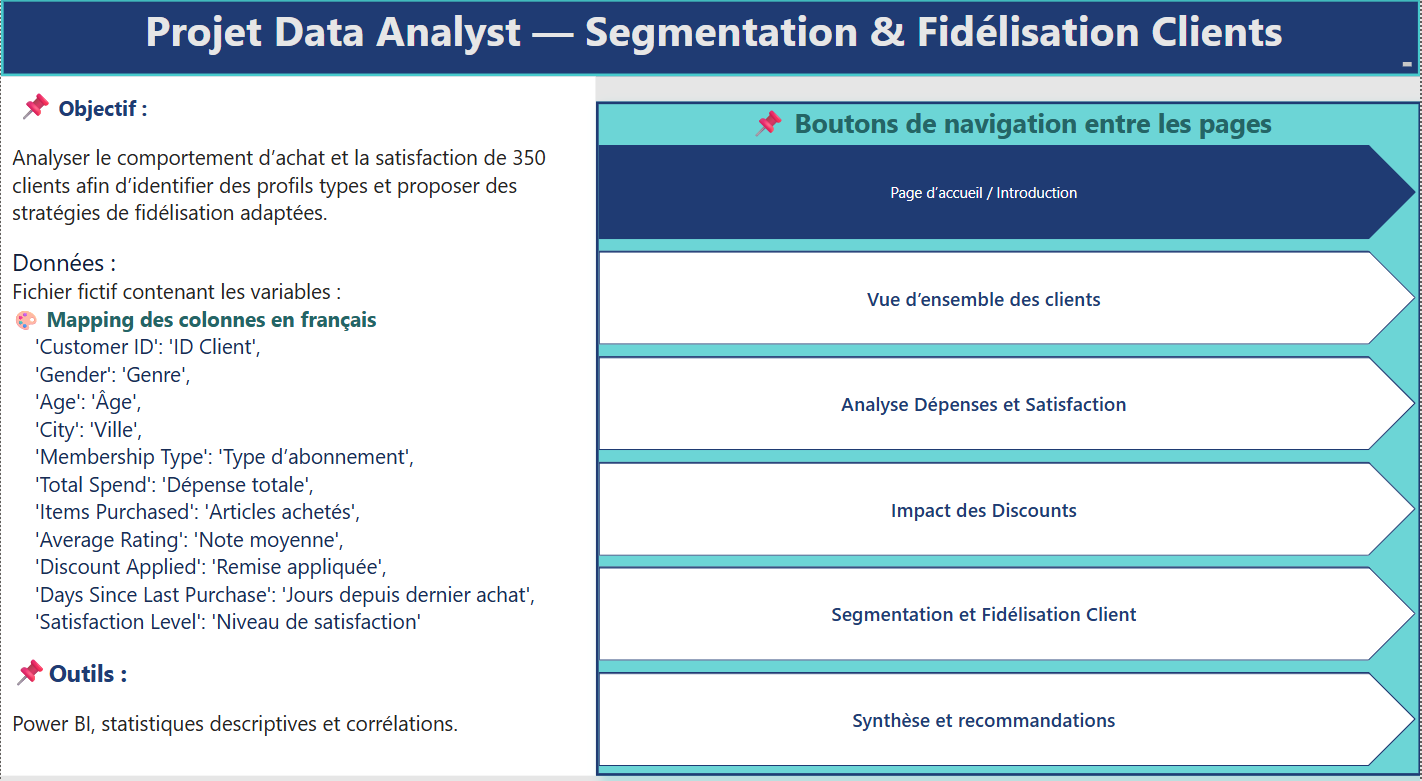

What the dashboard file says about the page in this screenshot:
{"tool":"powerbi","page":{"name":"Page d’accueil / Introduction","canvas":[1280,720],"ordinal":0},"visuals":[{"type":"textbox","title":"Projet Data Analyst — Segmentation & Fidélisation Clients","box":[0,0,1280.2,69.8],"z":1},{"type":"textbox","box":[0,69.7,536.1,630],"z":2},{"type":"pageNavigator","title":"📌 Boutons de navigation entre les pages ","box":[536.1,92.1,743.9,608.3],"z":8}]}

Visuals, with their boxes in screenshot pixels (x1, y1, x2, y2), scaled from the page's 1280x720 canvas onto the 1422x781 screenshot:
"Projet Data Analyst — Segmentation & Fidélisation Clients" textbox: bbox(0, 0, 1421, 76)
textbox: bbox(0, 76, 596, 759)
"📌 Boutons de navigation entre les pages " pageNavigator: bbox(596, 100, 1421, 760)
